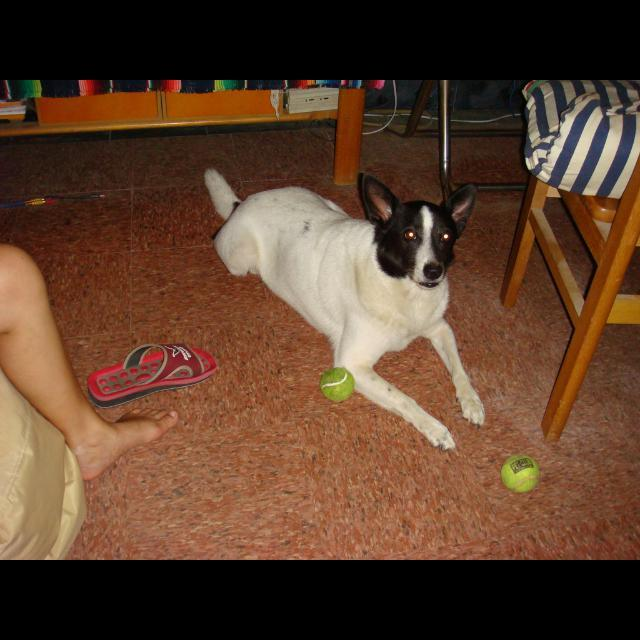tennis ball: (501, 454, 542, 494), (319, 366, 355, 404)
